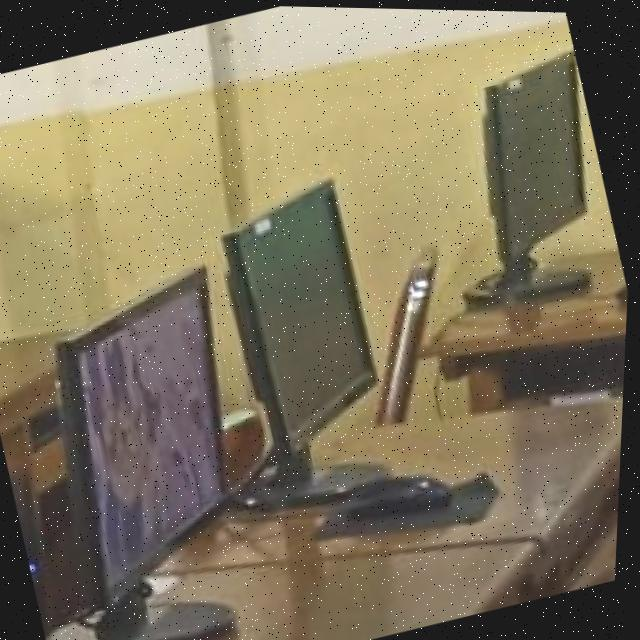offscreen: (224, 180, 378, 481)
onscreen: (58, 267, 240, 640), (486, 48, 587, 283)
